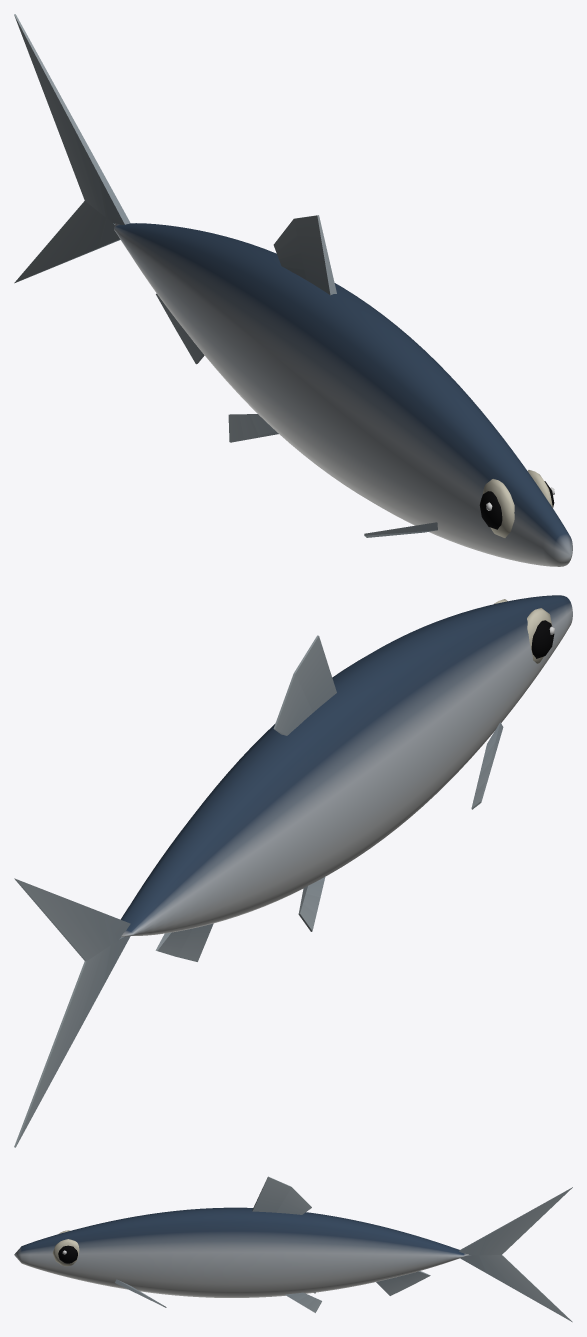
Rendered from Leptolepis.fbx.
3 views of the same model, one above another, from view 1: azimuth 30°, elevation 25°; view 2: azimuth 150°, elevation 25°; view 3: azimuth 270°, elevation 25° (orthographic). The views are drawn at different scales.
Parts seen in each view (by area): view 1: Leptolepis; view 2: Leptolepis; view 3: Leptolepis.
Part boxes in pixels (<box>): Leptolepis: <box>14,14,572,566</box>; Leptolepis: <box>14,595,572,1147</box>; Leptolepis: <box>14,1176,572,1322</box>.
Bounding box in the file's own units: 0.2005 × 0.4744 × 1.65.
